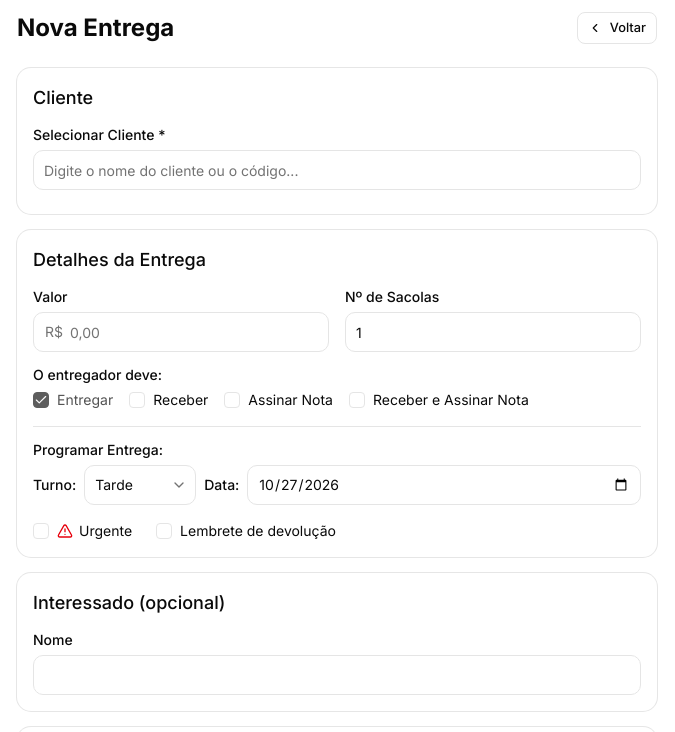
Test case: NovaEntregaForm › shows a 'no results' message when the cliente search has no match
Type "Zzz Ninguém" into the field with placeholder "Digite o nome do cliente ou o código...".
click(337, 170); type("Zzz Ninguém")  # box [33,150,641,190]
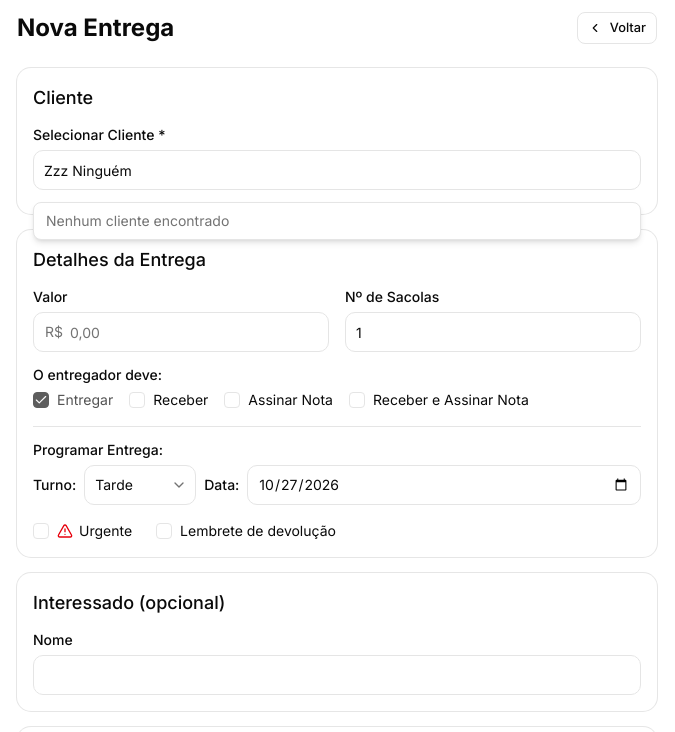
expect the text "Nenhum cliente encontrado" is shown: met, box [33,202,641,240]
